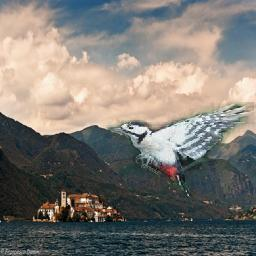Woodpecker: (106, 103, 254, 198)
